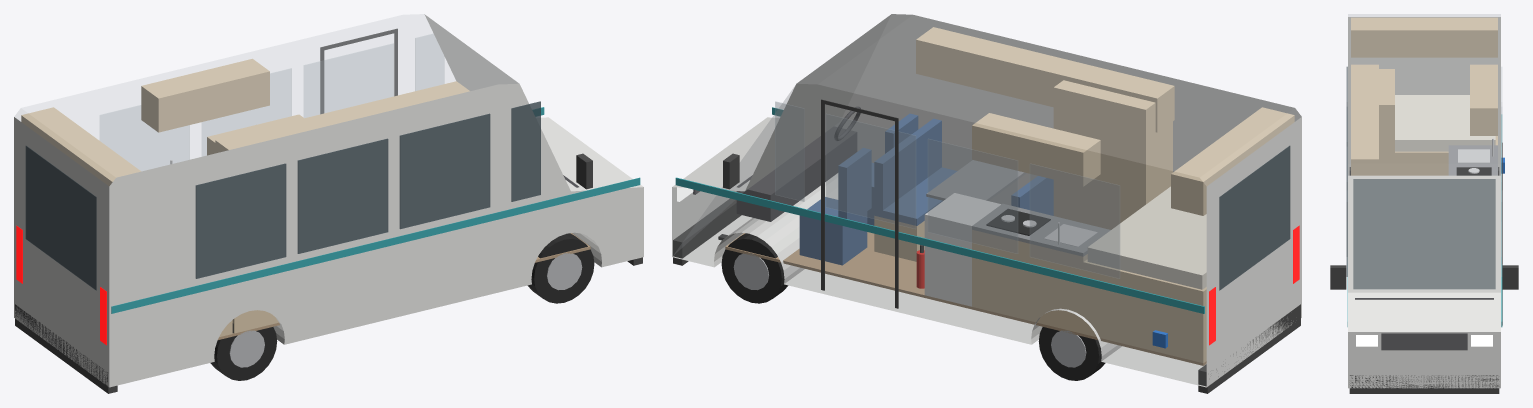
The model's file is force_traveller_3700wb.glb.
3 views of the same model, side by side, from view 1: azimuth 30°, elevation 25°; view 2: azimuth 150°, elevation 25°; view 3: azimuth 270°, elevation 25° (orthographic). The views are drawn at different scales.
Parts seen in each view (by area): view 1: Body_Shell, Body_Cutaway_LeftWall_Roof, Window_Right_0, Window_Right_2, Window_Right_1, Window_Rear, Storage_Overhead_Left_Kitchen, Window_Left_0, Stripe_Right, Window_Left_2, Storage_Overhead_Right, Storage_Overhead_Rear (+9 smaller); view 2: Body_Cutaway_LeftWall_Roof, Body_Shell, Storage_Wardrobe_Tall, Storage_Overhead_Right, Window_Left_1, Window_Left_2, Window_Left_0, Bed_Platform_Fixed_Rear, Kitchen_Base_Cabinets, Bed_Mattress_Double, Window_Rear, Storage_Overhead_Left_Kitchen (+25 smaller); view 3: Body_Shell, Body_Cutaway_LeftWall_Roof, Windscreen, Storage_Overhead_Rear, Bed_Mattress_Double, Storage_Overhead_Right, Storage_Overhead_Left_Kitchen, Bumper_Front, Storage_Wardrobe_Tall, Grille, Bed_Platform_Fixed_Rear, Kitchen_Countertop (+8 smaller).
Part boxes in pixels (bbox=[...]): Body_Shell: bbox=[14, 14, 643, 387]; Body_Cutaway_LeftWall_Roof: bbox=[14, 14, 516, 185]; Window_Right_0: bbox=[399, 113, 490, 229]; Window_Right_2: bbox=[195, 163, 286, 278]; Window_Right_1: bbox=[297, 138, 388, 253]; Window_Rear: bbox=[25, 145, 96, 290]; Storage_Overhead_Left_Kitchen: bbox=[141, 58, 269, 132]; Window_Left_0: bbox=[304, 43, 393, 117]; Stripe_Right: bbox=[111, 177, 640, 313]; Window_Left_2: bbox=[100, 105, 189, 170]; Storage_Overhead_Right: bbox=[215, 81, 469, 153]; Storage_Overhead_Rear: bbox=[21, 107, 141, 186]; Body_Cutaway_LeftWall_Roof: bbox=[672, 14, 1300, 386]; Body_Shell: bbox=[672, 14, 1301, 387]; Storage_Wardrobe_Tall: bbox=[1053, 80, 1172, 229]; Storage_Overhead_Right: bbox=[916, 27, 1174, 132]; Window_Left_1: bbox=[928, 139, 1017, 253]; Window_Left_2: bbox=[1030, 164, 1119, 278]; Window_Left_0: bbox=[826, 114, 915, 228]; Bed_Platform_Fixed_Rear: bbox=[1083, 259, 1206, 363]; Kitchen_Base_Cabinets: bbox=[972, 230, 1087, 333]; Bed_Mattress_Double: bbox=[1087, 186, 1206, 289]; Window_Rear: bbox=[1219, 145, 1290, 290]; Storage_Overhead_Left_Kitchen: bbox=[972, 113, 1100, 186]; Body_Shell: bbox=[1348, 17, 1500, 388]; Body_Cutaway_LeftWall_Roof: bbox=[1348, 14, 1500, 174]; Windscreen: bbox=[1353, 179, 1495, 289]; Storage_Overhead_Rear: bbox=[1351, 17, 1497, 57]; Bed_Mattress_Double: bbox=[1395, 95, 1495, 151]; Storage_Overhead_Right: bbox=[1351, 64, 1378, 175]; Storage_Overhead_Left_Kitchen: bbox=[1470, 64, 1497, 135]; Bumper_Front: bbox=[1349, 375, 1499, 393]; Storage_Wardrobe_Tall: bbox=[1379, 69, 1394, 175]; Grille: bbox=[1381, 333, 1467, 350]; Bed_Platform_Fixed_Rear: bbox=[1395, 136, 1497, 175]; Kitchen_Countertop: bbox=[1448, 145, 1497, 175].
Size of the model in its own units: 6.25 by 2.64 by 2.37.
